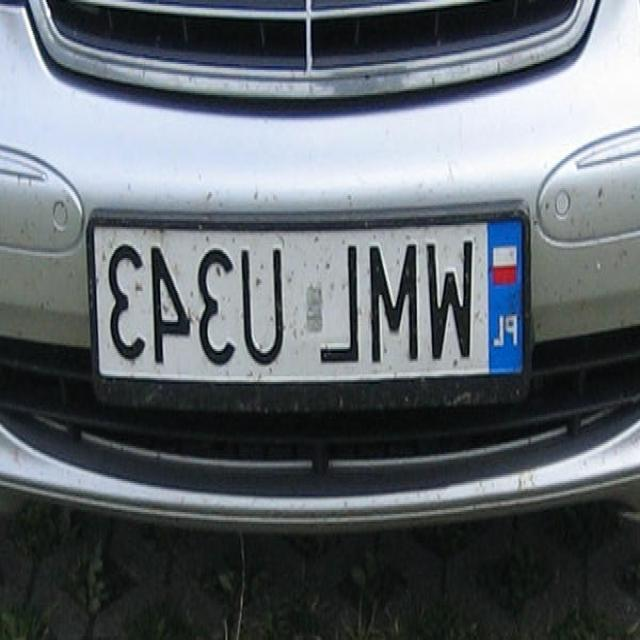pl_license_plate: (95, 221, 523, 374)
